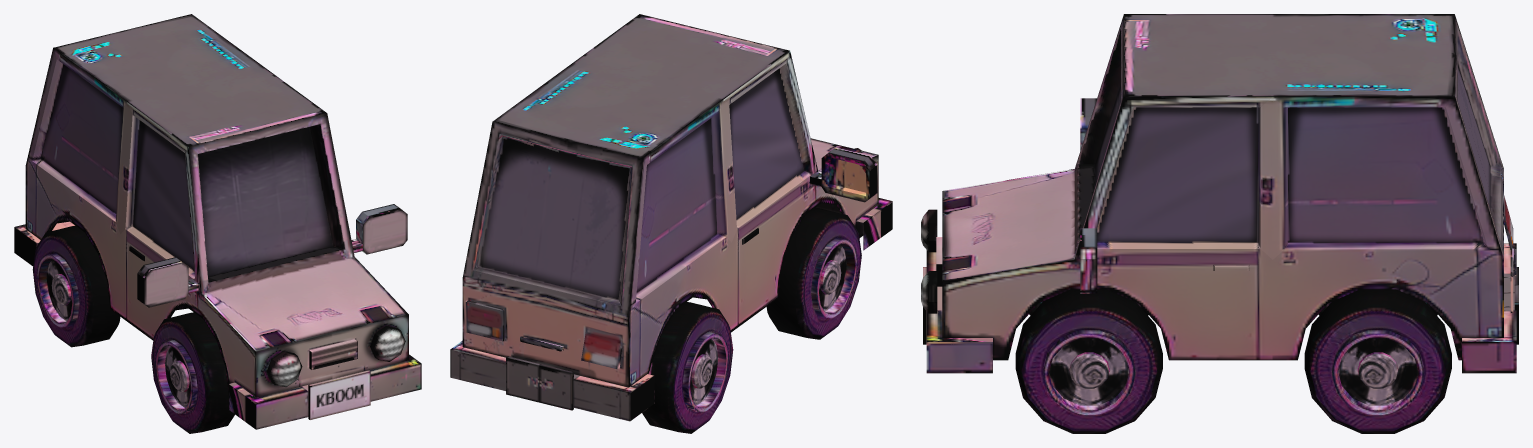
File: vanc_textured.fbx
3 views of the same model, side by side, from view 1: azimuth 30°, elevation 25°; view 2: azimuth 150°, elevation 25°; view 3: azimuth 270°, elevation 25° (orthographic). The views are drawn at different scales.
Parts seen in each view (by area): view 1: Car, Tires; view 2: Car, Tires; view 3: Car, Tires.
Part boxes in pixels (bbox=[...]): Car: bbox=[14, 14, 421, 429]; Tires: bbox=[32, 225, 234, 433]; Car: bbox=[450, 14, 892, 421]; Tires: bbox=[642, 207, 861, 433]; Car: bbox=[921, 14, 1518, 373]; Tires: bbox=[1015, 289, 1451, 433].
Size of the model in its own units: 260 by 251 by 418.
Materials: 2 (2 with a texture image).
